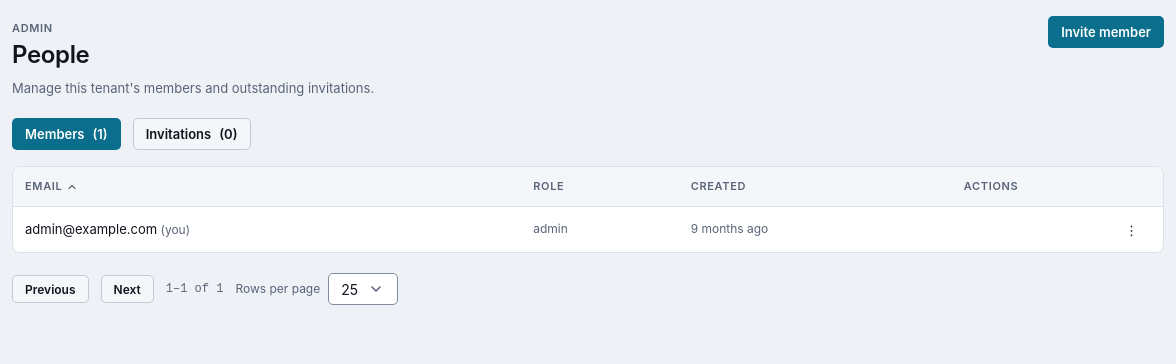
it: PeoplePage › never offers to remove your own membership
Expected: the text "admin@example.com" is shown, x1=25 y1=221 x2=157 y2=237
Click the button named "Actions for admin@example.com". click: (1132, 230)
box: x1=1112 y1=216 x2=1151 y2=244
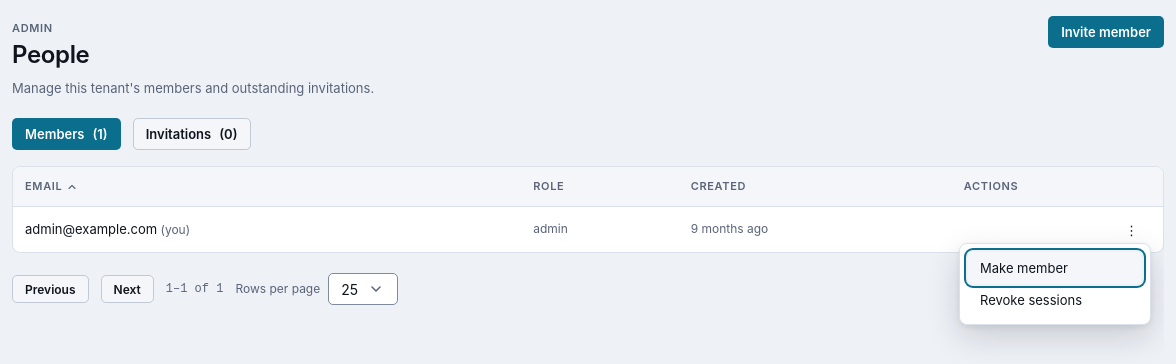
Result: the menu item "Revoke sessions" is shown at x1=968 y1=284 x2=1142 y2=316
